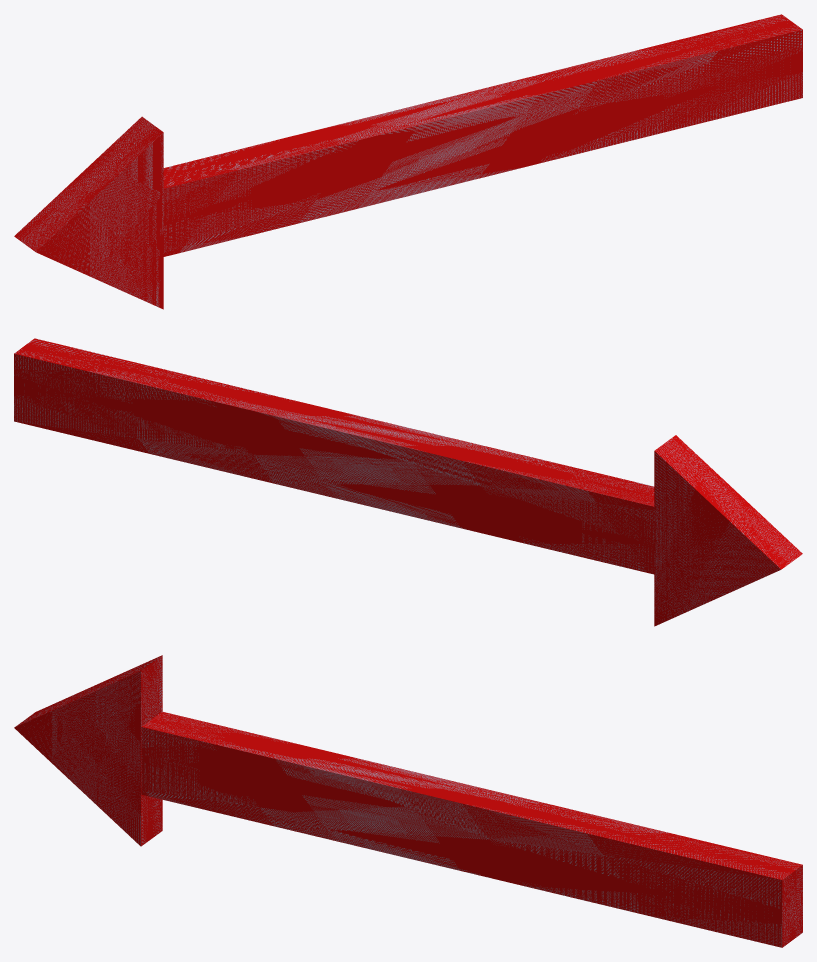
File: Arrow.fbx
3 renders of one model, top to bottom at view 1: azimuth 30°, elevation 25°; view 2: azimuth 150°, elevation 25°; view 3: azimuth 330°, elevation 25°, orthographic.
Parts seen in each view (by area): view 1: Model; view 2: Model; view 3: Model.
Part boxes in pixels (x1,y1,x2,y2): Model: [14, 14, 802, 309]; Model: [14, 338, 802, 626]; Model: [14, 655, 802, 947].
Size of the model in its own units: 23.91 by 5.25 by 1.33.
